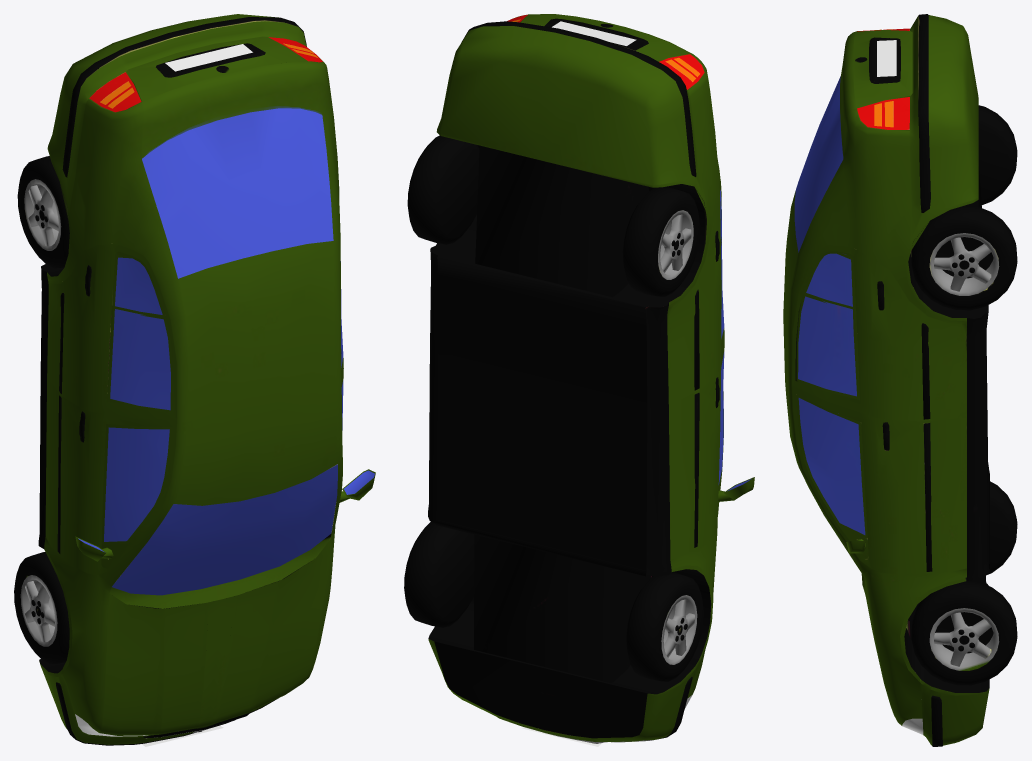
Rendered from skoda.fbx.
3 renders of one model, left to right at view 1: azimuth 30°, elevation 25°; view 2: azimuth 150°, elevation 25°; view 3: azimuth 270°, elevation 25°, orthographic. The views are drawn at different scales.
Visible parts, largest first — view 1: skoda; view 2: skoda; view 3: skoda.
Part boxes in pixels (bbox=[...]): skoda: bbox=[14, 14, 375, 746]; skoda: bbox=[404, 14, 754, 746]; skoda: bbox=[783, 14, 1017, 746].
Size of the model in its own units: 1.16 by 2.68 by 0.843.
16 materials, 16 textured.
